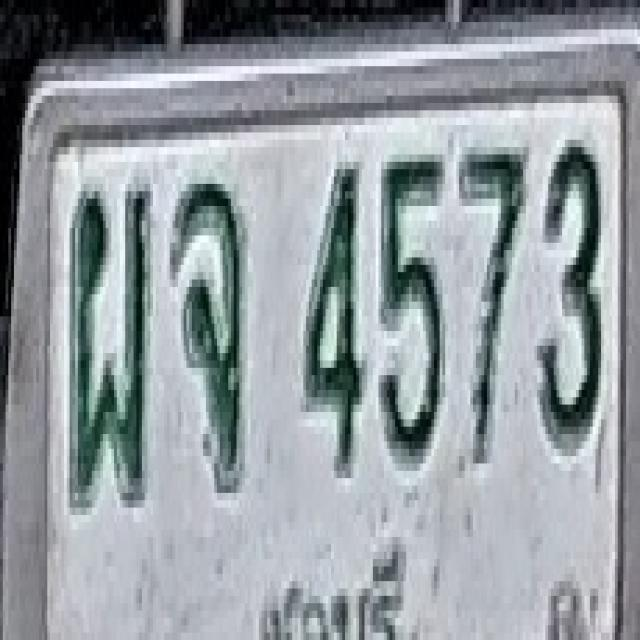-: (68, 180, 149, 504), (171, 177, 244, 486)
3: (537, 136, 601, 445)
4: (303, 162, 362, 471)
5: (380, 147, 444, 464)
7: (459, 143, 526, 460)
